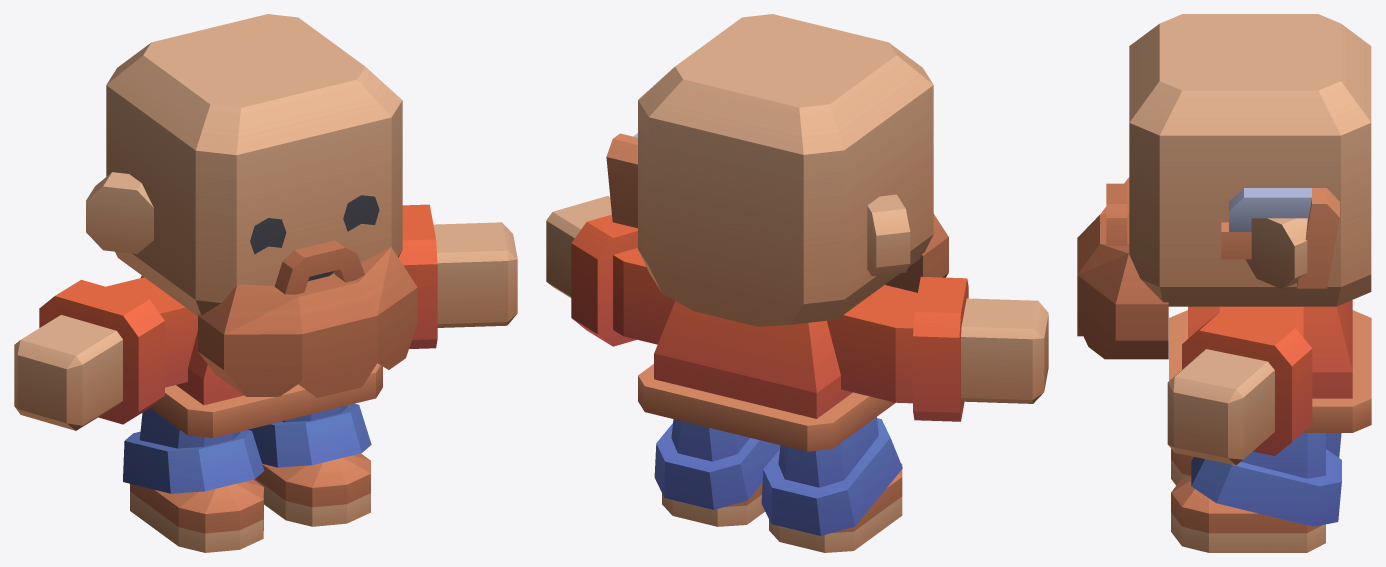
Rendered from CustomerB.obj.
3 views of the same model, side by side, from view 1: azimuth 30°, elevation 25°; view 2: azimuth 150°, elevation 25°; view 3: azimuth 270°, elevation 25° (orthographic).
Visible parts, largest first — view 1: body-mesh; view 2: body-mesh; view 3: body-mesh.
Boxes of the visible parts, left/top/right/bottom form: body-mesh: left=14, top=14, right=517, bottom=552; body-mesh: left=546, top=14, right=1048, bottom=552; body-mesh: left=1077, top=14, right=1371, bottom=552.
Size of the model in its own units: 0.7672 by 0.6613 by 0.3895.
1 material, 1 textured.
